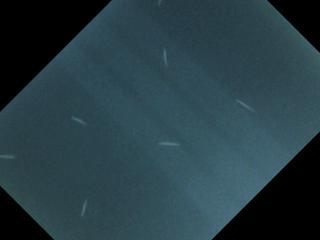scratch: (71, 193, 97, 223), (229, 92, 260, 117), (152, 136, 187, 151), (157, 43, 174, 70), (66, 112, 92, 129), (0, 150, 18, 163), (150, 0, 168, 8)
